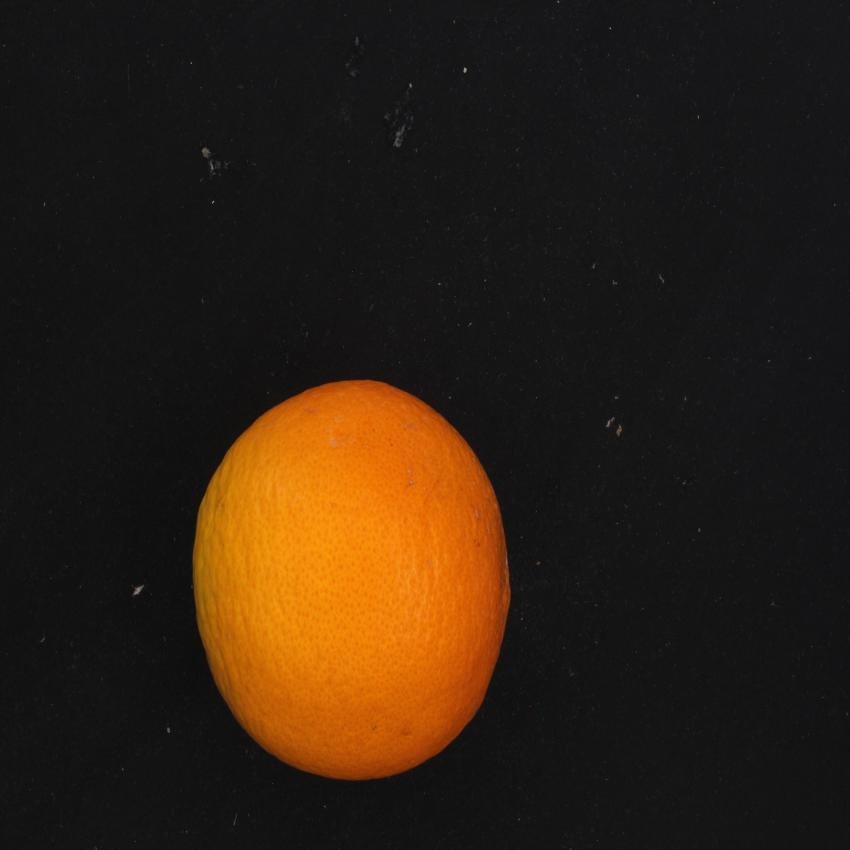Mal estado: (182, 369, 527, 798)
